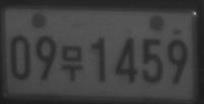0: (10, 35, 30, 79)
1: (89, 36, 112, 82)
4: (115, 38, 138, 83)
5: (141, 38, 163, 83)
9: (166, 40, 188, 84), (35, 35, 56, 80)
무: (60, 44, 83, 82)
